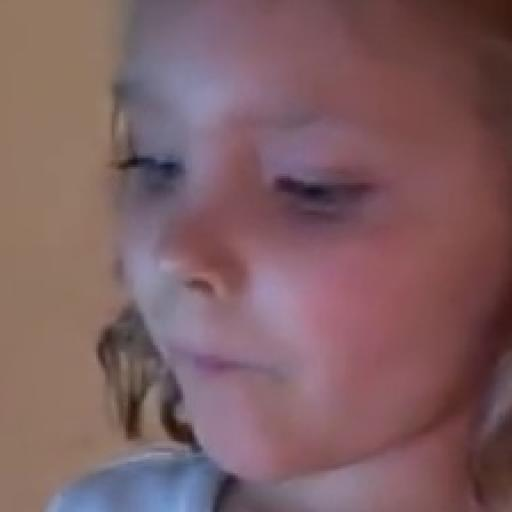Autism: (71, 0, 512, 501)
